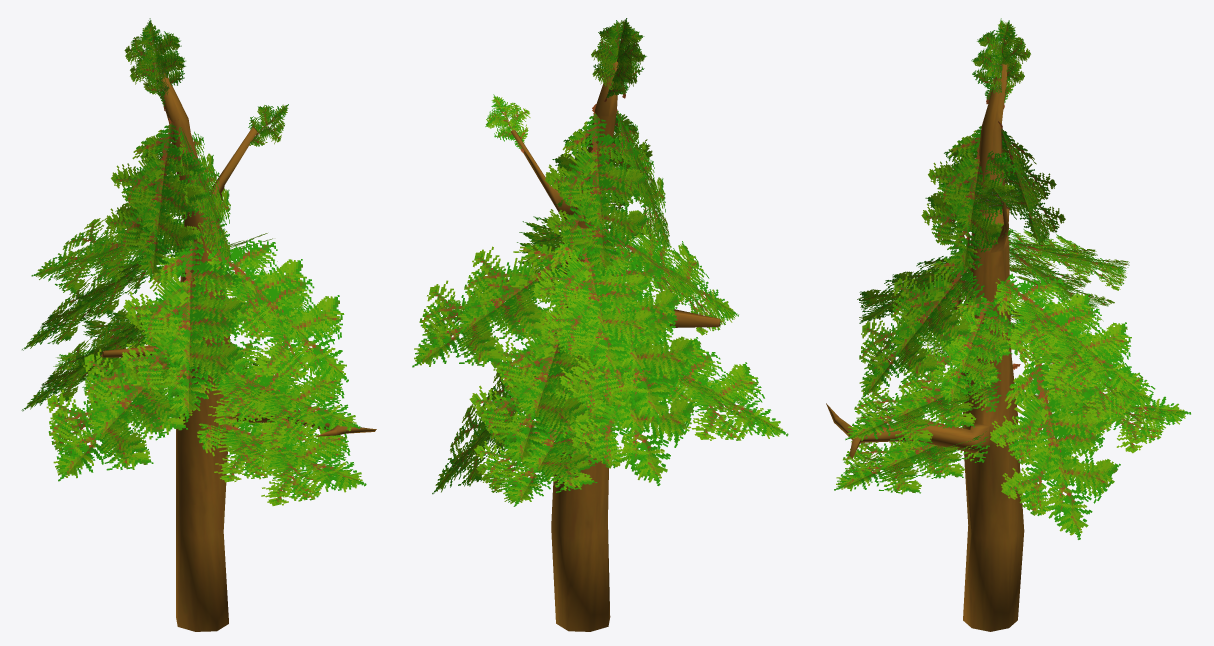
File: pine.obj
3 renders of one model, left to right at view 1: azimuth 30°, elevation 25°; view 2: azimuth 150°, elevation 25°; view 3: azimuth 270°, elevation 25°, orthographic. The views are drawn at different scales.
Bounding box in the file's own units: 3.33 × 6.43 × 3.73.
